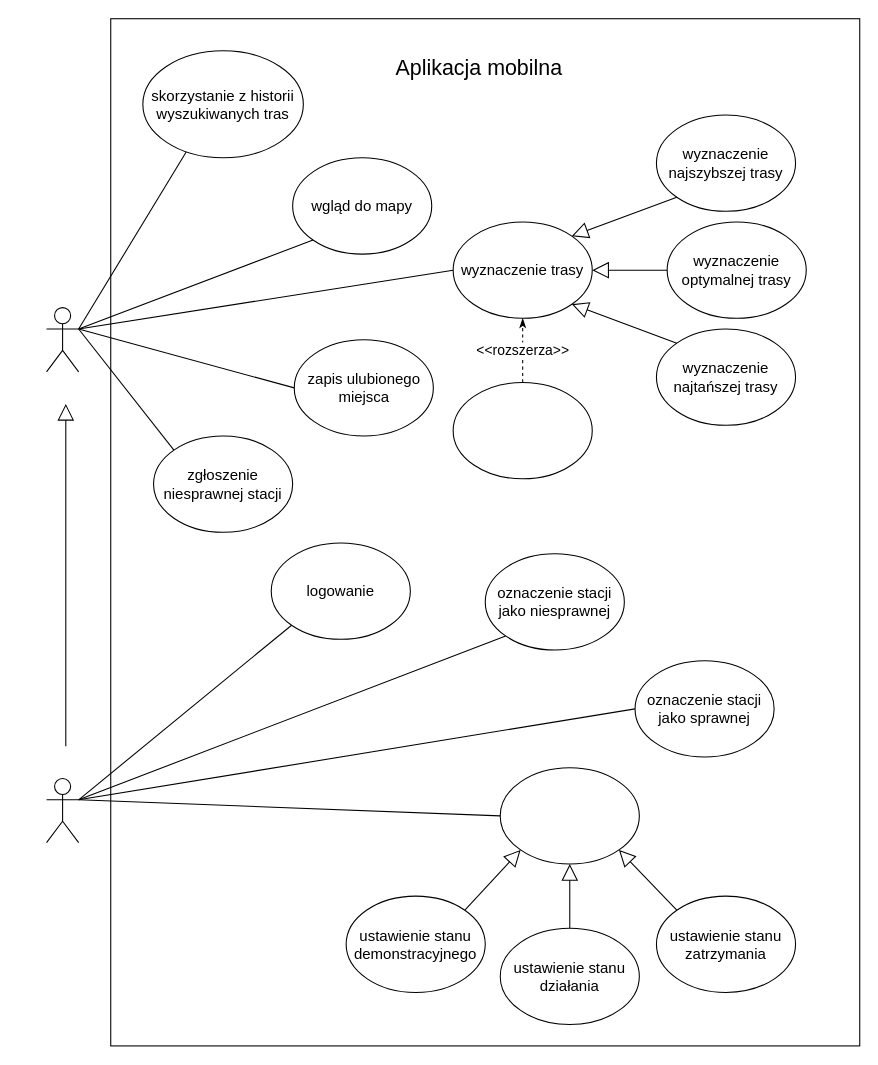
The diagram is 878 pixels wide and 1065 high, and some of its shapes have lost their labels. Here are the shapes that lost their labels. From the top down, the centre of each, then its label:
(x=62, y=339): Użytkownik
(x=522, y=430): wybór punktów przystankowych
(x=62, y=810): Administrator
(x=569, y=815): ustawienie stanu systemu
